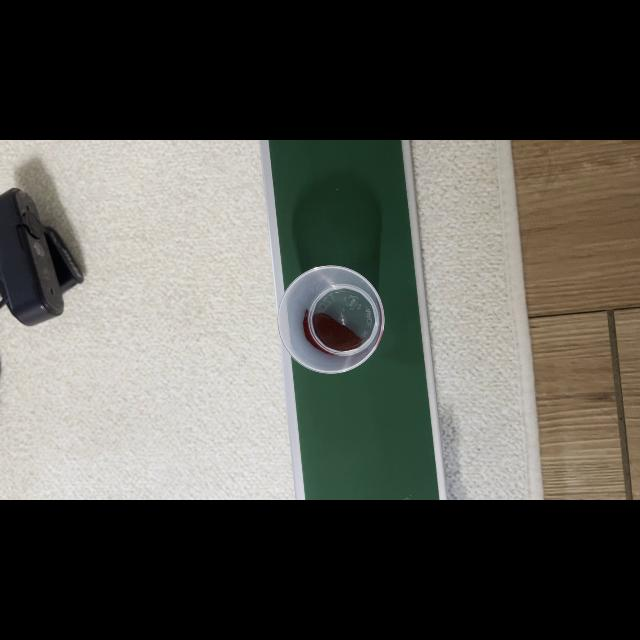dirty: (278, 266, 386, 374)
